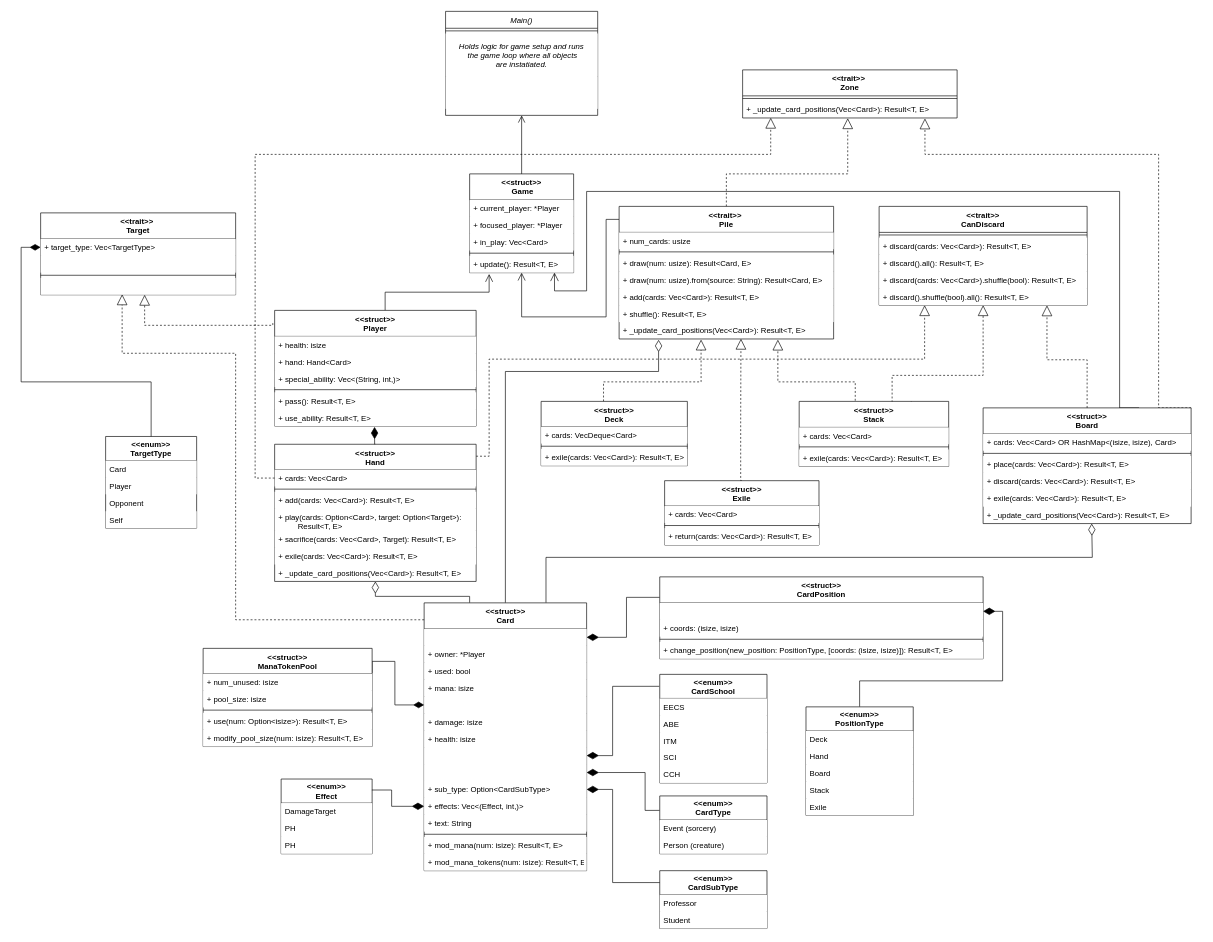
Image size: 1213x942. Some labels were removed from this diagram. The shapes that lost their labels are listed below. From the top down, each one's centre as x and y in pixels, then its label:
the point at 521,92: Should maybe call an Game.update() for graphics? idk how ggez works
the point at 137,263: + is_targetable: bool
the point at 137,286: + update_status(focused_player: *Player): void
the point at 821,611: + position_type: PositionType
the point at 505,637: + position: CardPosition
the point at 505,704: + mana_tokens: ManaTokenPool
the point at 505,755: + school: CardSchool
the point at 505,772: + type: CardType
